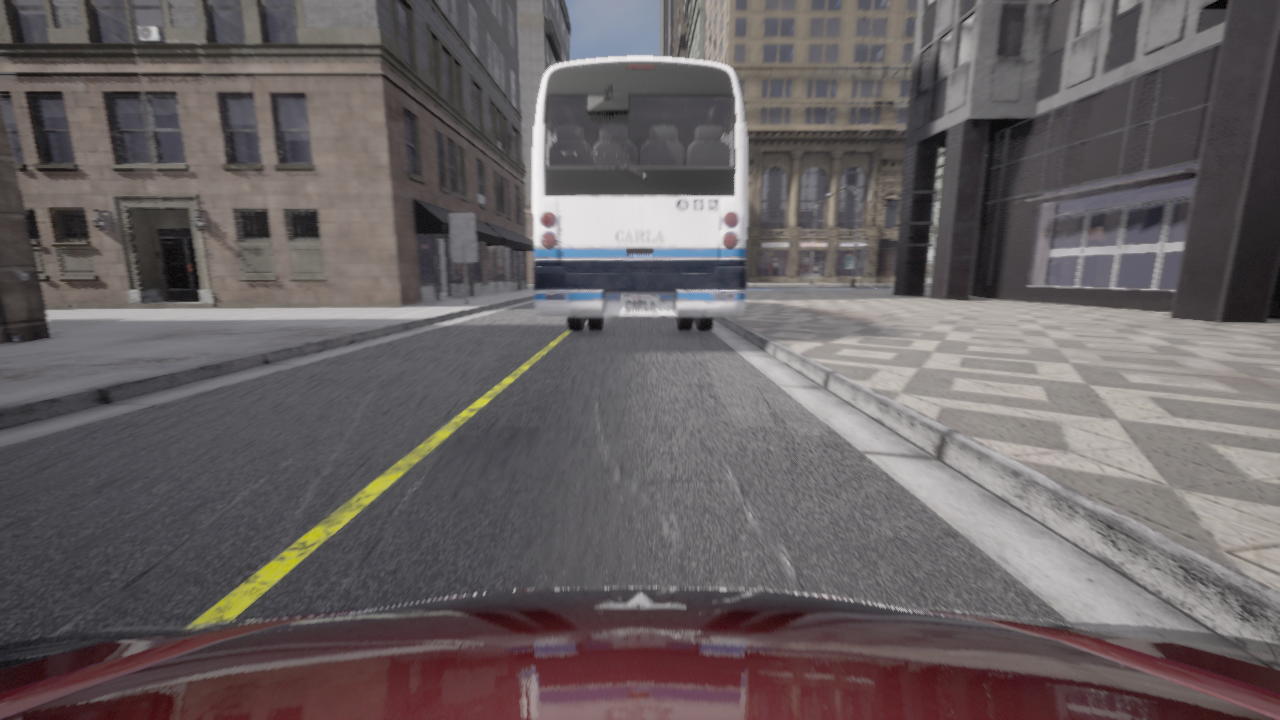cyclist: (0, 588, 1279, 719), (533, 57, 746, 331)
